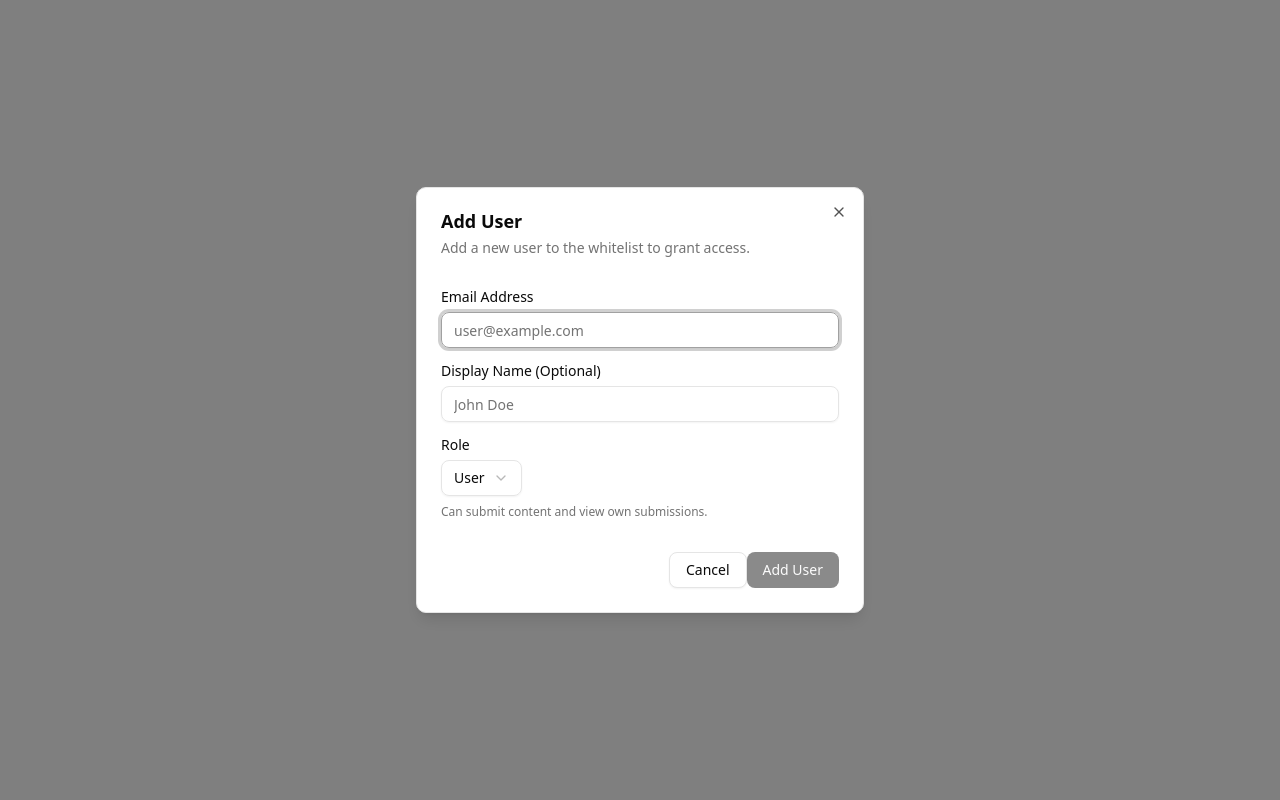
Scenario: AddUserDialog › should enable submit button when email is provided
Type "test@example.com" into the field labelled "Email Address" at (640, 330), box [441,312,839,348]
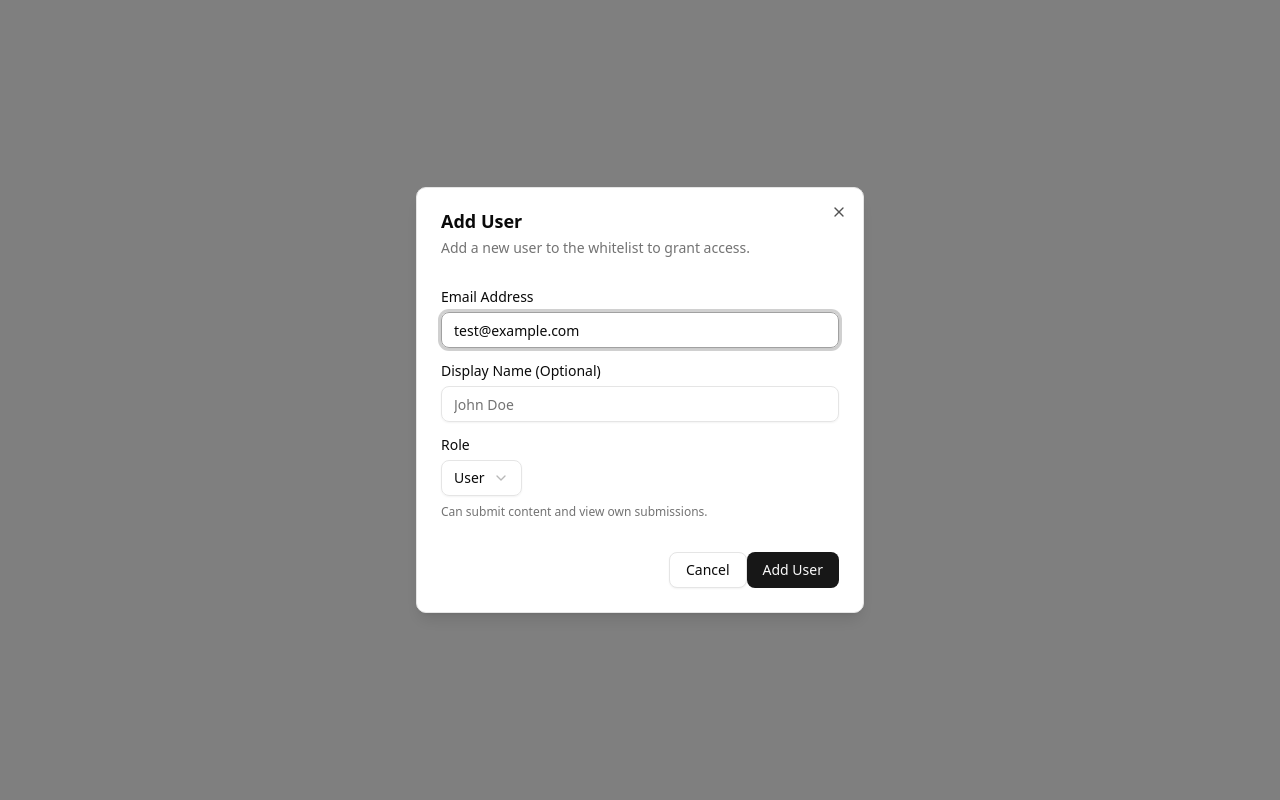
Expected: the button "Add User" is enabled, [747,552,839,588]
